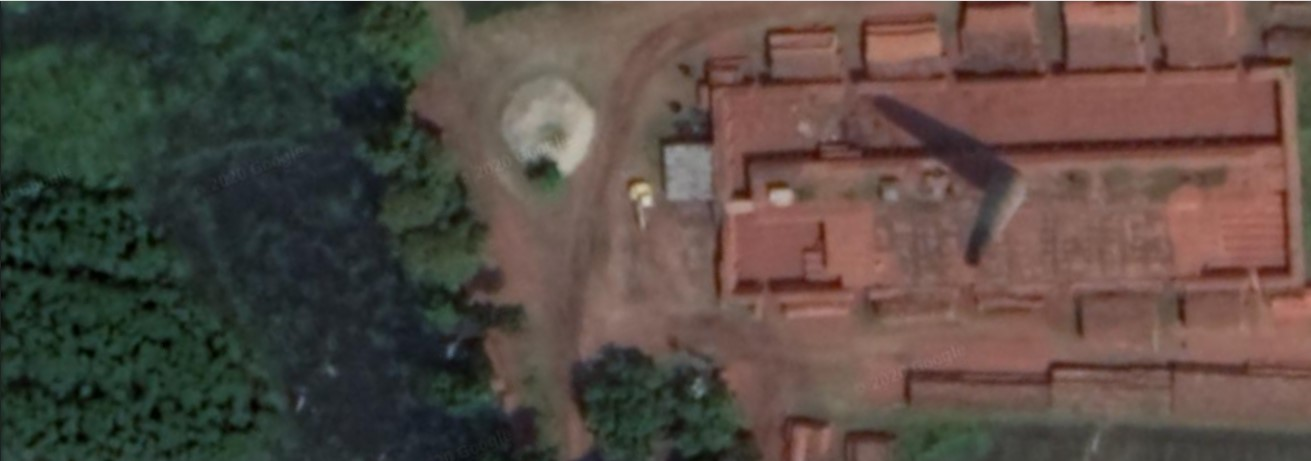kiln: (668, 32, 1305, 402)
